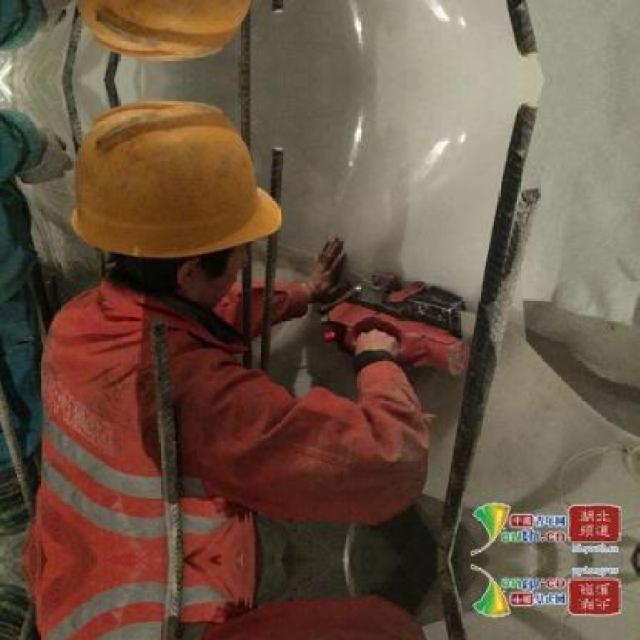helmet: (56, 88, 290, 324), (55, 0, 291, 74), (458, 494, 517, 543), (458, 577, 517, 626)
